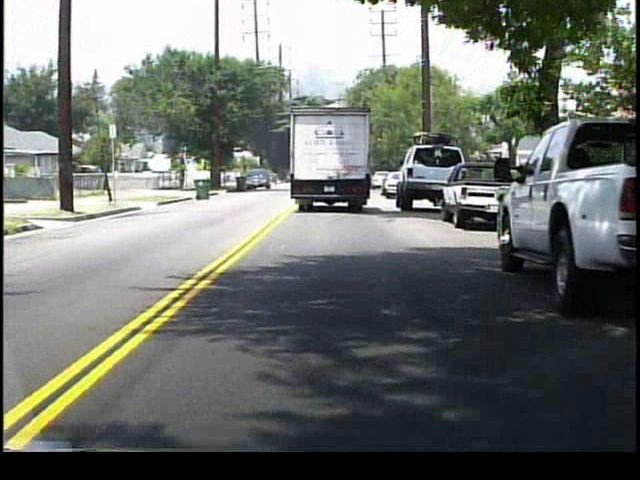person: (179, 164, 189, 189)
